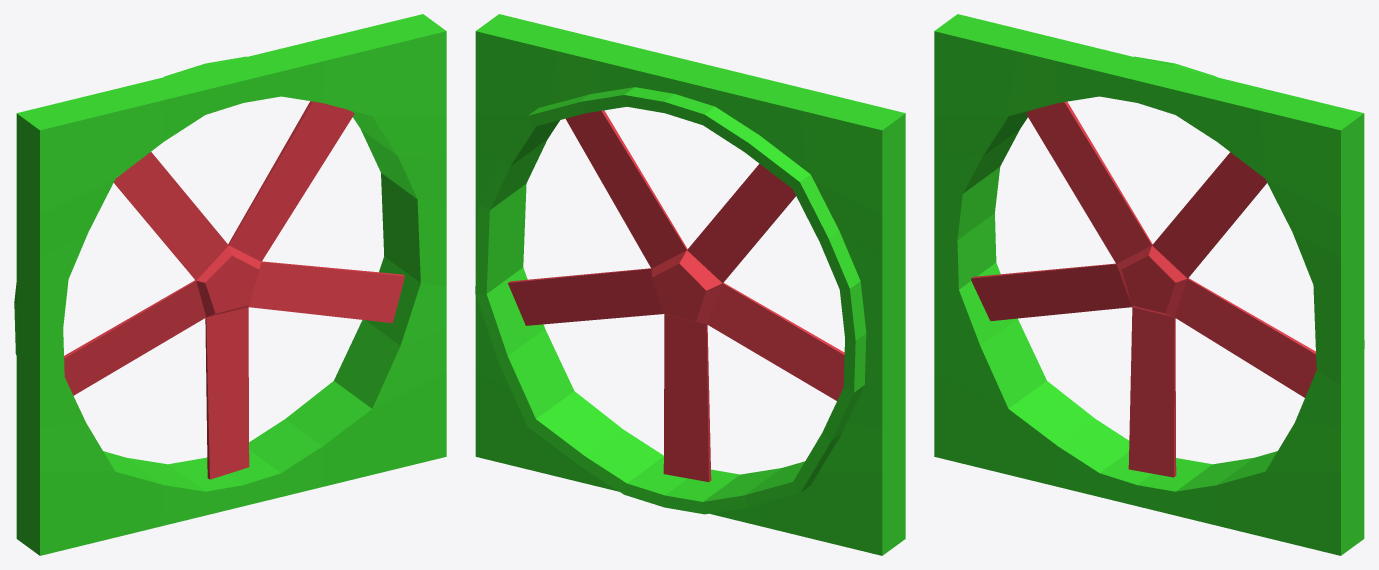
The model's file is ventfan.fbx.
The picture shows the model from 3 angles, left to right: view 1: azimuth 30°, elevation 25°; view 2: azimuth 150°, elevation 25°; view 3: azimuth 330°, elevation 25°; orthographic projection.
Parts seen in each view (by area): view 1: Cube, Cylinder; view 2: Cube, Cylinder; view 3: Cube, Cylinder.
Boxes of the visible parts, x1,y1,x2,y2 form: Cube: (14,14,446,555); Cylinder: (64,101,404,479); Cube: (475,14,905,555); Cylinder: (508,110,844,482); Cube: (934,14,1364,555); Cylinder: (971,101,1316,477).
Bounding box in the file's own units: 400 × 400 × 66.37.
